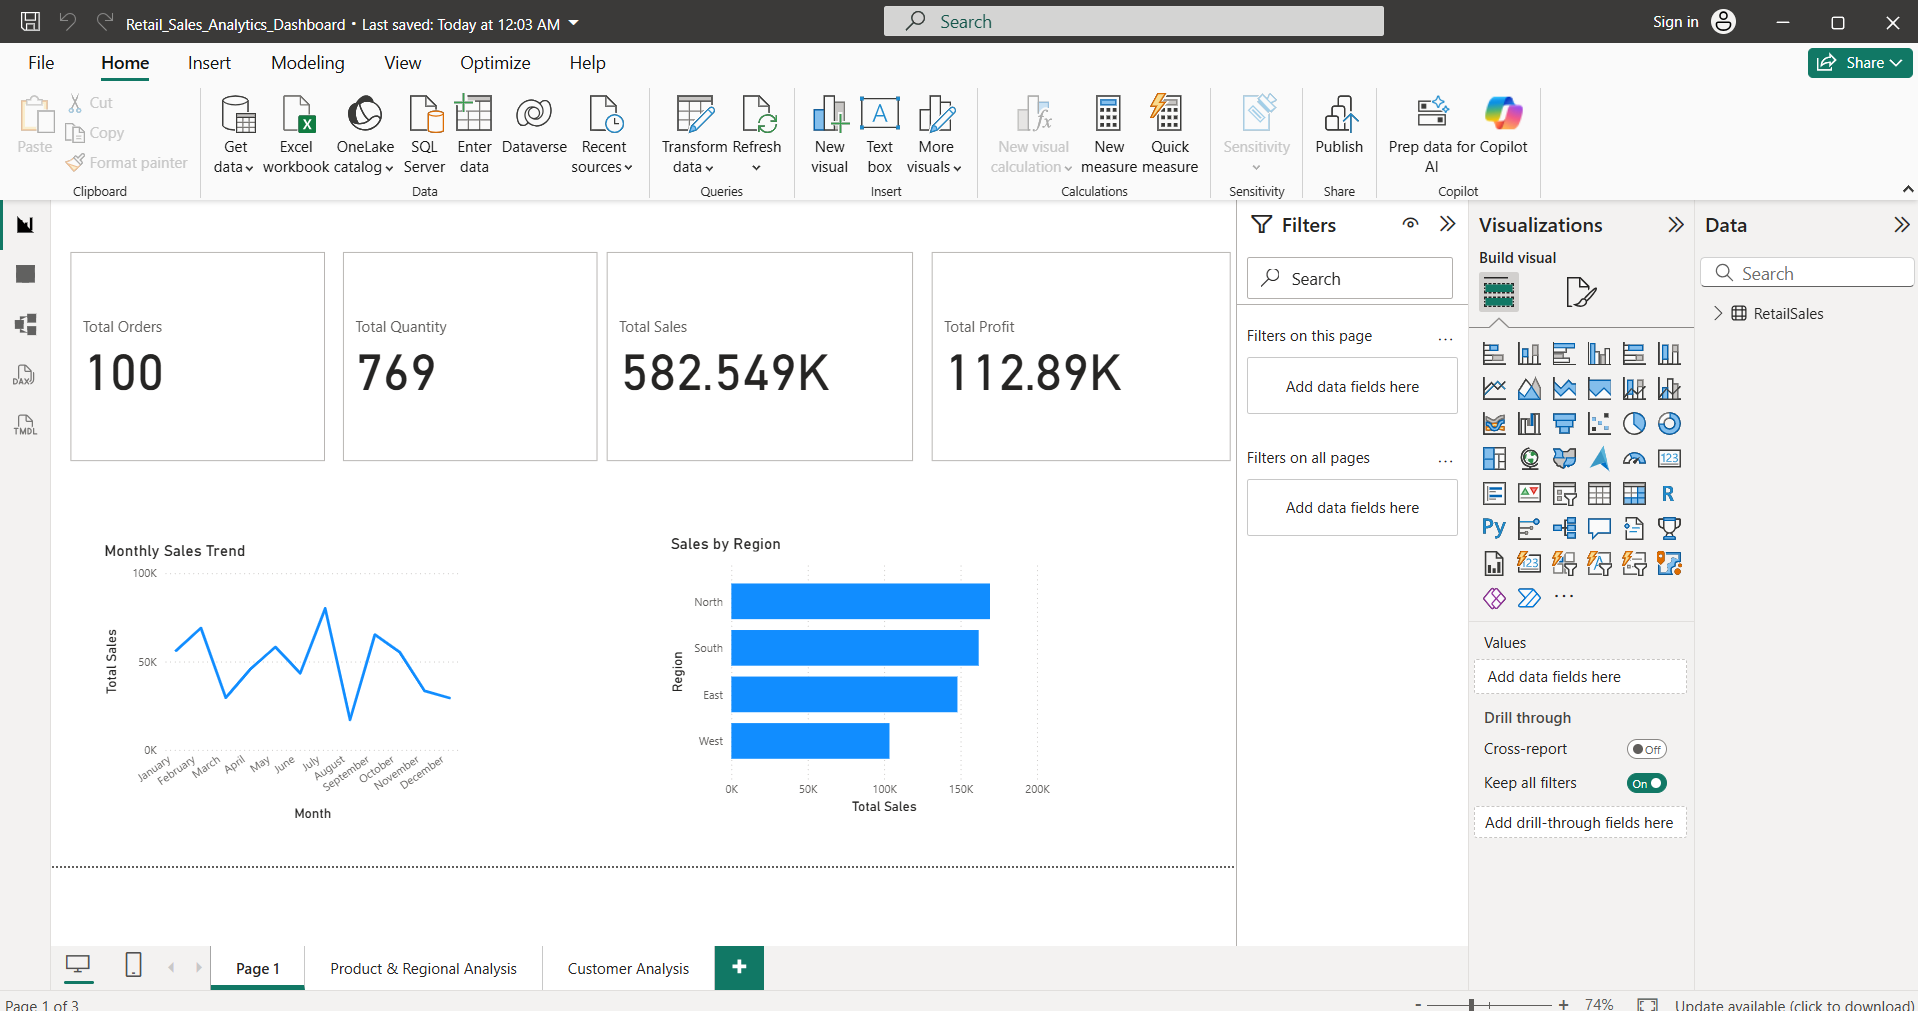

This screenshot's page, from the dashboard's own definition file:
{"tool":"powerbi","page":{"name":"Page 1","canvas":[1280,720],"ordinal":0},"visuals":[{"type":"lineChart","title":"Monthly Sales Trend","fields":{"Category":["RetailSales.Order_Date.Variation.Date Hierarchy.Month"],"Y":["RetailSales.Total Sales"]},"box":[52.1,369.1,393.8,307.4],"z":0},{"type":"clusteredBarChart","title":"Sales by Region","fields":{"Category":["RetailSales.Region"],"Y":["RetailSales.Total Sales"]},"box":[664.4,360.6,420,307.9],"z":1000},{"type":"cardVisual","fields":{"Data":["RetailSales.Total Orders"]},"box":[16.5,50.8,285.4,236],"z":2000},{"type":"cardVisual","fields":{"Data":["RetailSales.Total Quantity"]},"box":[311,51,285,236],"z":3000},{"type":"cardVisual","fields":{"Data":["RetailSales.Total Sales"]},"box":[596,51,341,236],"z":4000},{"type":"cardVisual","fields":{"Data":["RetailSales.Total Profit"]},"box":[947,51,333,236],"z":5000}]}

Visuals, with their boxes on the page's 1280x720 design canvas (x1, y1, x2, y2). These are canvas units, not pixel positions in the 1918x1011 screenshot, which may show the page scaled, cropped or inside an application window:
"Monthly Sales Trend" lineChart: [x1=52, y1=369, x2=446, y2=676]
"Sales by Region" clusteredBarChart: [x1=664, y1=361, x2=1084, y2=668]
cardVisual - RetailSales.Total Orders: [x1=16, y1=51, x2=302, y2=287]
cardVisual - RetailSales.Total Quantity: [x1=311, y1=51, x2=596, y2=287]
cardVisual - RetailSales.Total Sales: [x1=596, y1=51, x2=937, y2=287]
cardVisual - RetailSales.Total Profit: [x1=947, y1=51, x2=1280, y2=287]
